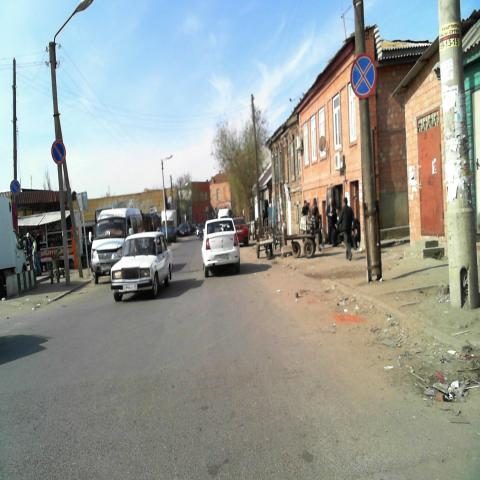3_28: (10, 180, 20, 196)
